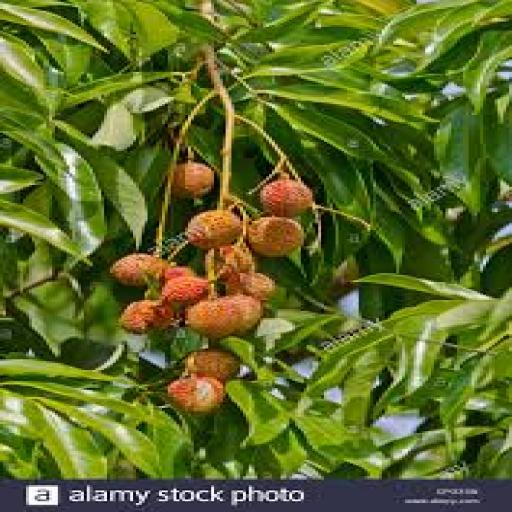lychee: (186, 295, 263, 339), (186, 299, 240, 339), (186, 211, 242, 249), (168, 376, 225, 413), (249, 218, 303, 256), (261, 178, 312, 217), (119, 301, 176, 334), (186, 349, 240, 382), (110, 254, 167, 285), (171, 162, 214, 199), (226, 295, 263, 334), (226, 274, 274, 301), (162, 277, 208, 303), (220, 245, 254, 276), (162, 266, 196, 282)
